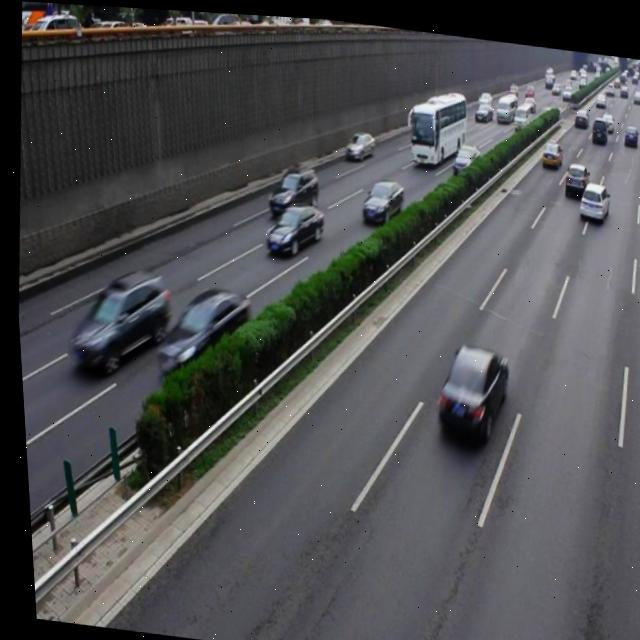car: (60, 258, 171, 377), (147, 278, 250, 381), (424, 331, 507, 441), (259, 194, 323, 256), (262, 155, 318, 216), (356, 171, 402, 222), (573, 171, 607, 215), (341, 123, 374, 157), (559, 153, 587, 191)
